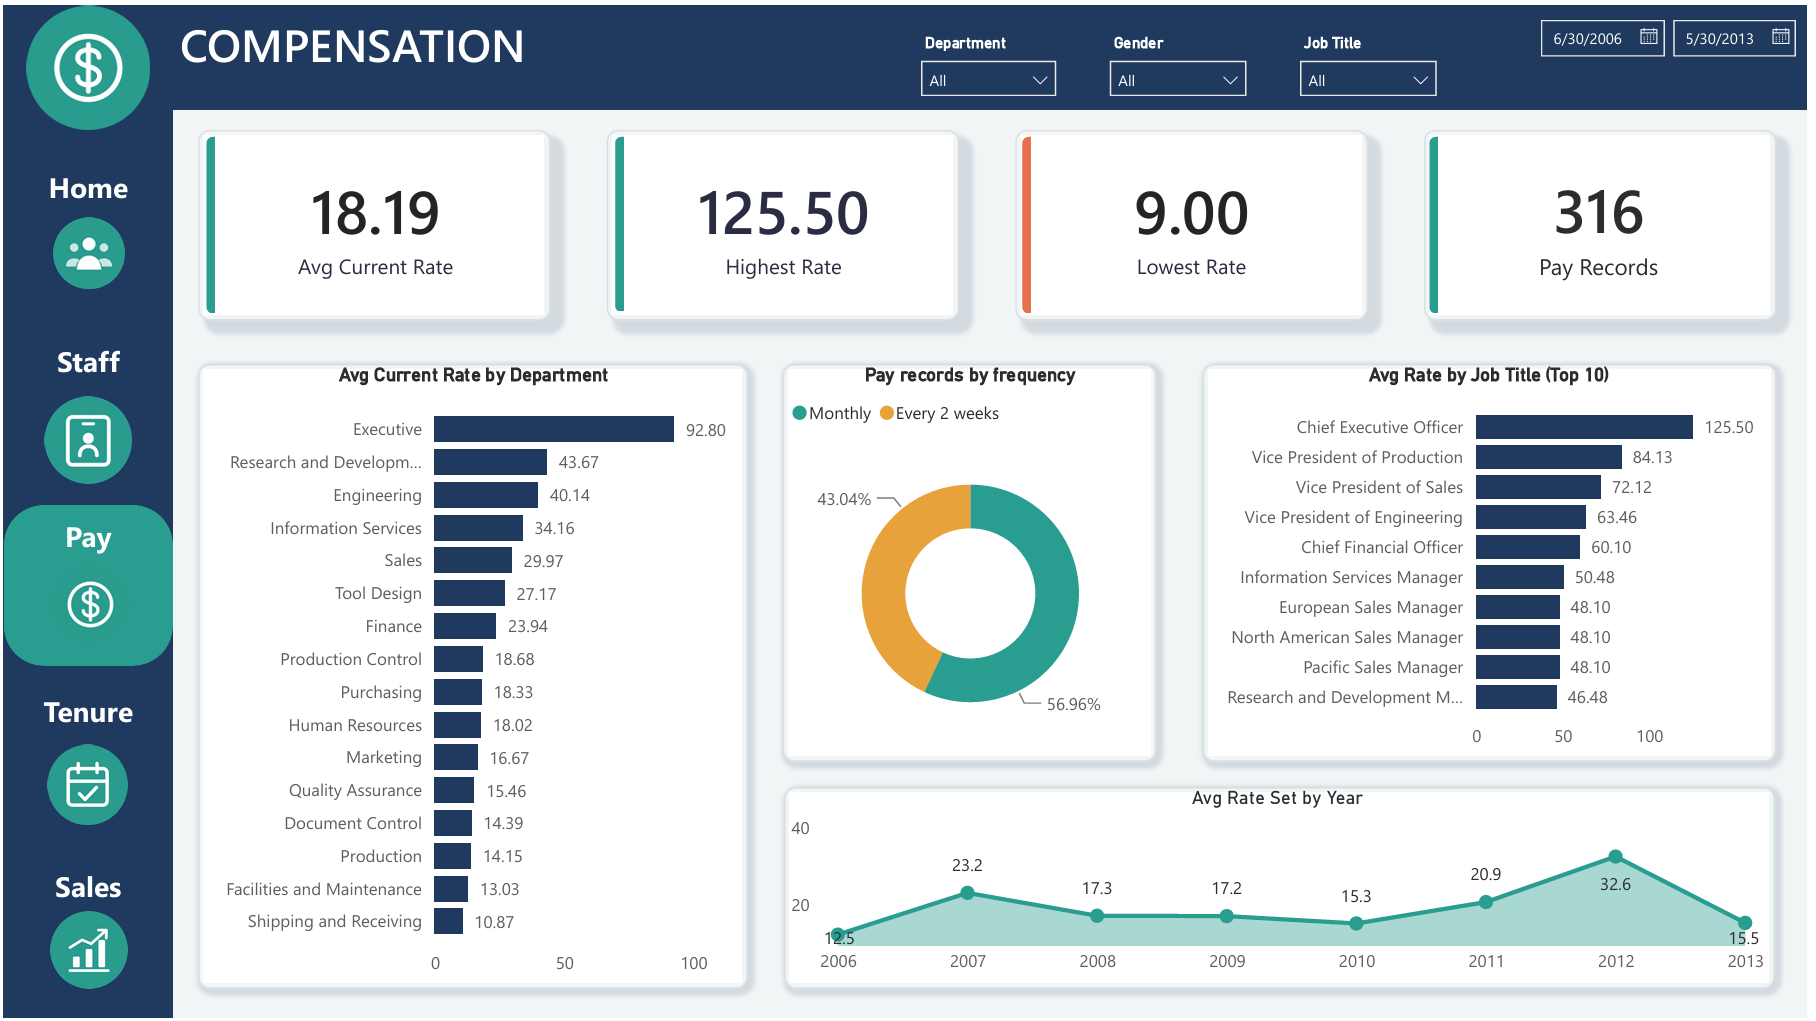

What the dashboard file says about the page in this screenshot:
{"tool":"powerbi","page":{"name":"Pay","canvas":[1280,720],"ordinal":2},"visuals":[{"type":"shape","box":[0,0,1279.5,63.6],"z":0},{"type":"shape","box":[0,0,1279.5,719.2],"z":1000},{"type":"shape","box":[137.8,87.8,249.8,134.8],"z":2000},{"type":"textbox","box":[0,0,920.6,87.8],"z":3000},{"type":"shape","box":[428,87.8,249.8,134.8],"z":4000},{"type":"shape","box":[718.2,87.8,249.8,134.8],"z":5000},{"type":"shape","box":[1008.5,87.8,249.8,134.8],"z":6000},{"type":"slicer","fields":{"Values":["DATE.Date"]},"box":[979.7,0,299.8,87.8],"z":7000},{"type":"shape","box":[137.8,254.4,390.7,442.1],"z":8000},{"type":"shape","box":[554.2,554.2,702.6,142.3],"z":9000},{"type":"shape","box":[0,0,1279.5,74.2],"z":10000},{"type":"shape","box":[851,254.4,407.3,281.6],"z":11000},{"type":"shape","box":[0,0,119.6,719.2],"z":12000},{"type":"cardVisual","fields":{"Data":["HR Master.Pay Records"]},"box":[1006.9,87.8,249.8,134.8],"z":13000},{"type":"cardVisual","fields":{"Data":["HR Master.Highest Rate"]},"box":[428.7,87.8,249.2,134.3],"z":14000},{"type":"cardVisual","fields":{"Data":["HR Master.Lowest Rate"]},"box":[717.7,87.8,249.8,134.8],"z":15000},{"type":"cardVisual","fields":{"Data":["DATE.Avg Current Rate"]},"box":[139.3,87.8,249.8,134.8],"z":16000},{"type":"clusteredBarChart","title":"Avg Current Rate by Department","fields":{"Category":["HR Master.Department Name"],"Y":["DATE.Avg Current Rate"]},"box":[139.3,254.4,389.2,442.1],"z":17000},{"type":"shape","box":[552.7,254.4,265,281.6],"z":18000},{"type":"donutChart","title":" Pay records by frequency","fields":{"Y":["HR Master.Pay Records"],"Category":["HumanResources EmployeePayHisto.PayFrequency"]},"box":[554.2,254.4,263.5,281.6],"z":19000},{"type":"clusteredBarChart","title":"Avg Rate by Job Title (Top 10) ","fields":{"Y":["DATE.Avg Current Rate"],"Category":["HR Master.Job Title Short"]},"box":[851,254.4,405.8,281.6],"z":20000},{"type":"lineChart","fields":{"Y":["DATE.Avg Rate Set"],"Category":["DATE.Year"]},"box":[554.2,554.2,699.6,140.8],"z":21000},{"type":"slicer","title":"Department ","fields":{"Values":["HR Master.Department Name"]},"box":[640.5,15.1,116.6,57.5],"z":22000},{"type":"slicer","title":"Department ","fields":{"Values":["HR Master.Job Title Short"]},"box":[910,15.1,116.6,57.5],"z":23000},{"type":"textbox","box":[119.6,0,1159.9,72.7],"z":24000},{"type":"slicer","title":"Department ","fields":{"Values":["HR Master.Gender"]},"box":[775.3,15.1,116.6,57.5],"z":25000},{"type":"slicer","fields":{"Values":["HR Master.HireDate"]},"box":[1078.1,0,201.4,43.9],"z":26000},{"type":"pageNavigator","box":[0,106,119.6,613.3],"z":27000},{"type":"image","box":[0,277.1,119.6,62.1],"z":28000},{"type":"image","box":[0,0,119.6,87.8],"z":29000},{"type":"image","box":[12.1,395.2,98.4,59.1],"z":30000},{"type":"image","box":[12.1,149.9,96.9,51.5],"z":31000},{"type":"image","box":[0,642,119.6,54.5],"z":32000},{"type":"image","box":[10.6,523.9,96.9,57.5],"z":33000}]}

Visuals, with their boxes in screenshot pixels (x1, y1, x2, y2), scaled from the page's 1280x720 canvas onto the 1816x1021 screenshot:
shape: region(0, 0, 1815, 90)
shape: region(0, 0, 1815, 1020)
shape: region(196, 125, 550, 316)
textbox: region(0, 0, 1306, 125)
shape: region(607, 125, 962, 316)
shape: region(1019, 125, 1373, 316)
shape: region(1431, 125, 1785, 316)
slicer - DATE.Date: region(1390, 0, 1815, 125)
shape: region(196, 361, 750, 988)
shape: region(786, 786, 1783, 988)
shape: region(0, 0, 1815, 105)
shape: region(1207, 361, 1785, 760)
shape: region(0, 0, 170, 1020)
cardVisual - HR Master.Pay Records: region(1429, 125, 1783, 316)
cardVisual - HR Master.Highest Rate: region(608, 125, 962, 315)
cardVisual - HR Master.Lowest Rate: region(1018, 125, 1373, 316)
cardVisual - DATE.Avg Current Rate: region(198, 125, 552, 316)
"Avg Current Rate by Department" clusteredBarChart: region(198, 361, 750, 988)
shape: region(784, 361, 1160, 760)
" Pay records by frequency" donutChart: region(786, 361, 1160, 760)
"Avg Rate by Job Title (Top 10) " clusteredBarChart: region(1207, 361, 1783, 760)
lineChart - DATE.Avg Rate Set x DATE.Year: region(786, 786, 1779, 986)
"Department " slicer: region(909, 21, 1074, 103)
"Department " slicer: region(1291, 21, 1456, 103)
textbox: region(170, 0, 1815, 103)
"Department " slicer: region(1100, 21, 1265, 103)
slicer - HR Master.HireDate: region(1530, 0, 1815, 62)
pageNavigator: region(0, 150, 170, 1020)
image: region(0, 393, 170, 481)
image: region(0, 0, 170, 125)
image: region(17, 560, 157, 644)
image: region(17, 213, 155, 286)
image: region(0, 910, 170, 988)
image: region(15, 743, 153, 824)
